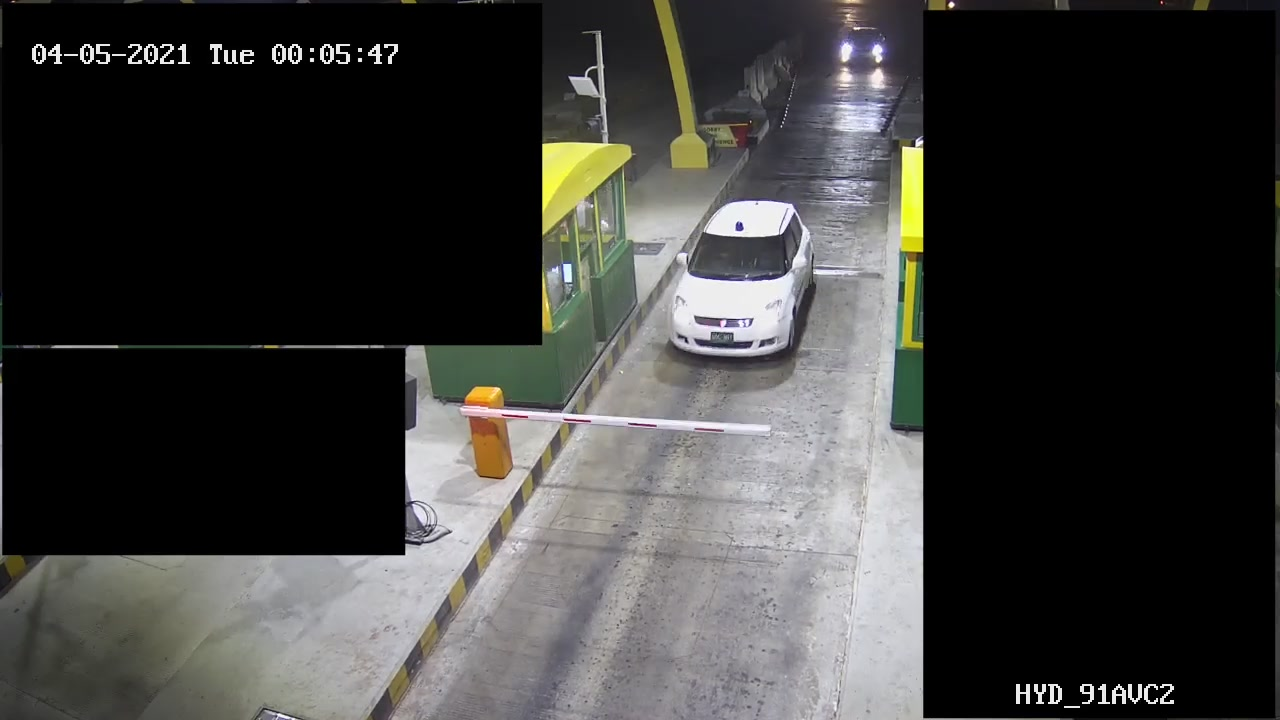F1: (648, 191, 832, 377)
